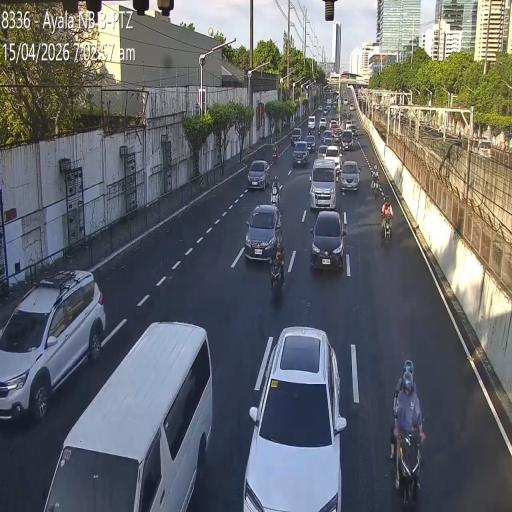Car: (39, 320, 209, 506), (244, 326, 345, 508), (0, 268, 106, 418), (244, 202, 282, 262), (310, 210, 346, 273), (308, 157, 338, 209), (248, 158, 270, 190), (322, 145, 342, 177), (340, 159, 360, 191), (292, 139, 310, 167), (320, 130, 334, 149), (291, 127, 302, 146), (306, 132, 316, 152), (345, 120, 353, 132)
Motor: (392, 382, 424, 500), (380, 196, 394, 241), (272, 230, 285, 274), (270, 172, 279, 206), (371, 173, 379, 197)
Not Accident: (246, 204, 285, 290), (310, 144, 360, 210), (246, 156, 282, 206), (290, 124, 312, 171)
